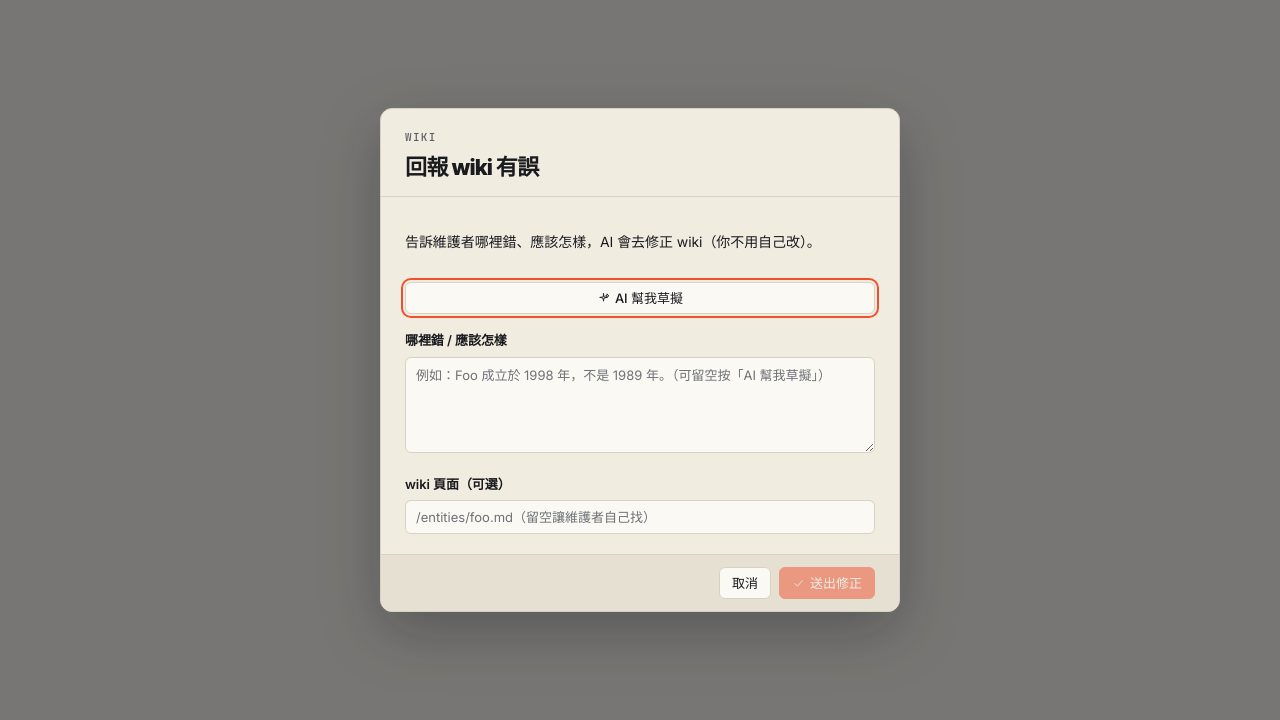
Test case: WikiCorrectionDialog (#397) › one-click AI draft prefills the instruction from a draft result
Click the button "AI 幫我草擬": (640, 298) [405, 282, 875, 314]
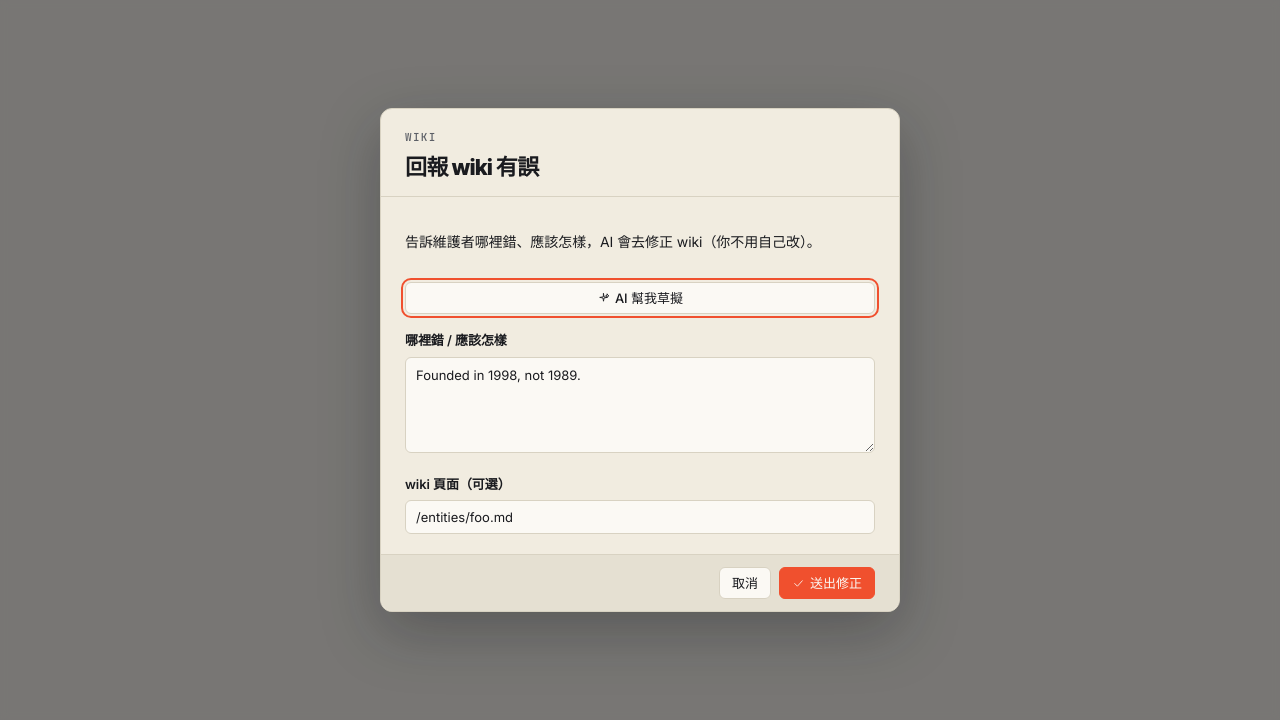
Check: the field showing "/entities/foo.md" is shown, box [405, 500, 875, 534]
Check: the text box showing "Founded in 1998, not 1989." is shown, box [405, 357, 875, 453]
